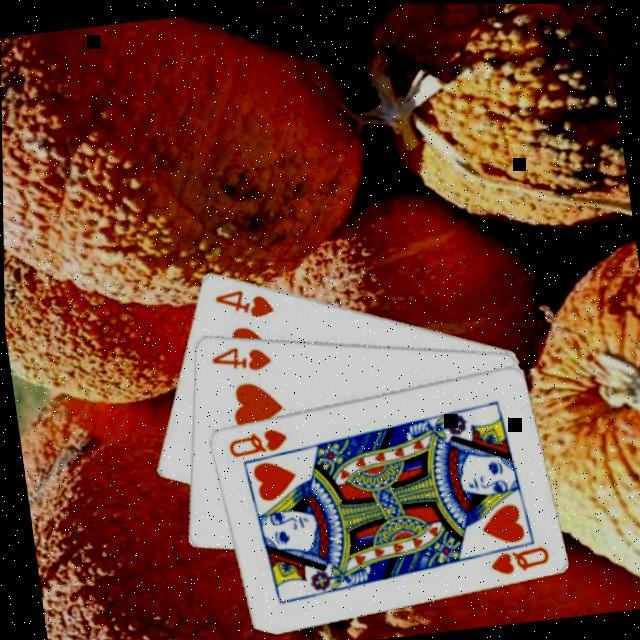4H: (206, 280, 275, 324), (203, 337, 270, 377)
QH: (470, 532, 549, 579), (218, 421, 288, 459)
